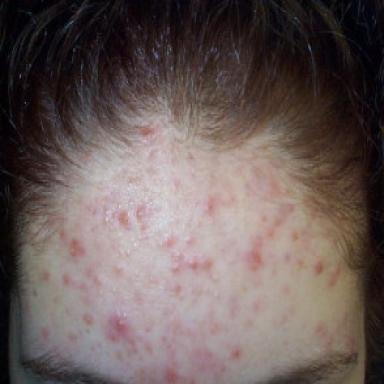acne: (247, 231, 263, 271), (315, 321, 332, 347), (109, 316, 127, 335), (70, 239, 85, 256), (279, 204, 294, 221), (329, 265, 341, 286), (335, 312, 348, 329), (119, 211, 131, 229), (162, 235, 177, 247), (140, 124, 155, 136), (208, 197, 217, 216), (166, 369, 178, 383), (136, 205, 146, 221), (270, 180, 280, 193), (314, 260, 323, 274), (67, 332, 78, 343), (189, 258, 199, 269), (63, 273, 72, 285), (347, 333, 355, 346), (186, 235, 196, 245), (232, 349, 242, 359), (83, 314, 93, 324), (175, 252, 185, 262), (204, 258, 213, 269), (41, 327, 49, 339), (42, 271, 50, 281), (115, 264, 123, 274), (59, 228, 65, 239), (175, 285, 181, 295), (268, 228, 274, 238), (173, 266, 179, 273)
